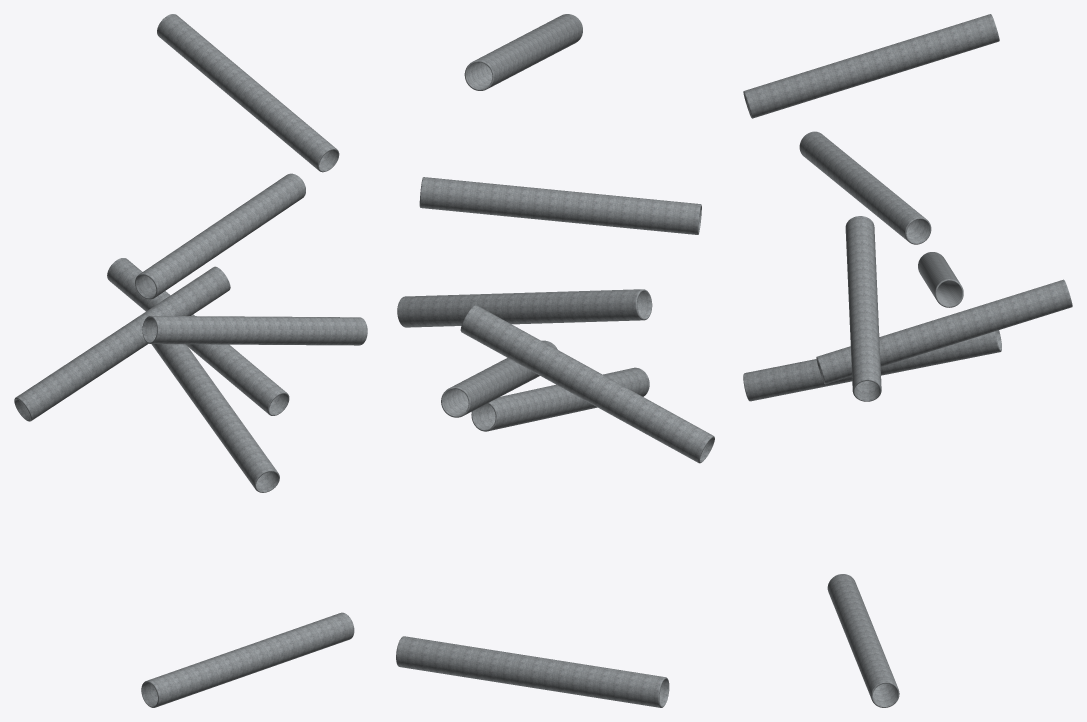
File: nordstream3-exp.glb
The picture shows the model from 3 angles, left to right: view 1: azimuth 30°, elevation 25°; view 2: azimuth 150°, elevation 25°; view 3: azimuth 270°, elevation 25°; orthographic projection. The views are drawn at different scales.
Visible parts, largest first — view 1: ring beton.002, ring beton.003, ring beton.005, ring beton.007, ring beton.004, ring beton.006, ring beton.001; view 2: ring beton.004, ring beton.005, ring beton.007, ring beton.002, ring beton.006, ring beton.003, ring beton.001; view 3: ring beton.003, ring beton.001, ring beton.002, ring beton.004, ring beton.006, ring beton.007, ring beton.005.
Boxes of the visible parts, x1,y1,x2,y2 form: ring beton.002: (142, 316, 367, 345); ring beton.003: (157, 14, 339, 172); ring beton.005: (14, 266, 230, 421); ring beton.007: (141, 612, 354, 707); ring beton.004: (135, 173, 305, 299); ring beton.006: (151, 344, 279, 492); ring beton.001: (107, 258, 289, 415); ring beton.004: (419, 177, 701, 234); ring beton.005: (460, 305, 714, 463); ring beton.007: (396, 636, 669, 707); ring beton.002: (397, 289, 652, 327); ring beton.006: (471, 367, 649, 431); ring beton.003: (464, 14, 582, 90); ring beton.001: (441, 340, 557, 417); ring beton.003: (743, 14, 999, 118); ring beton.001: (816, 279, 1072, 384); ring beton.002: (845, 216, 881, 401); ring beton.004: (799, 131, 931, 244); ring beton.006: (743, 330, 1001, 401); ring beton.007: (827, 574, 899, 707); ring beton.005: (918, 252, 963, 307).
Bounding box in the file's own units: 17.01 × 32.08 × 15.17.
Materials: 1 (1 with a texture image).
